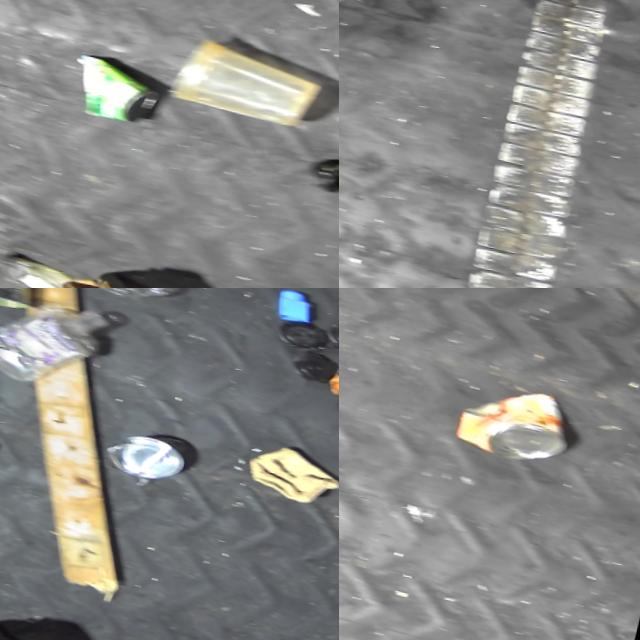can: (450, 363, 587, 463), (69, 47, 175, 127), (109, 419, 198, 480)
plastic_bottle: (0, 288, 125, 399)
